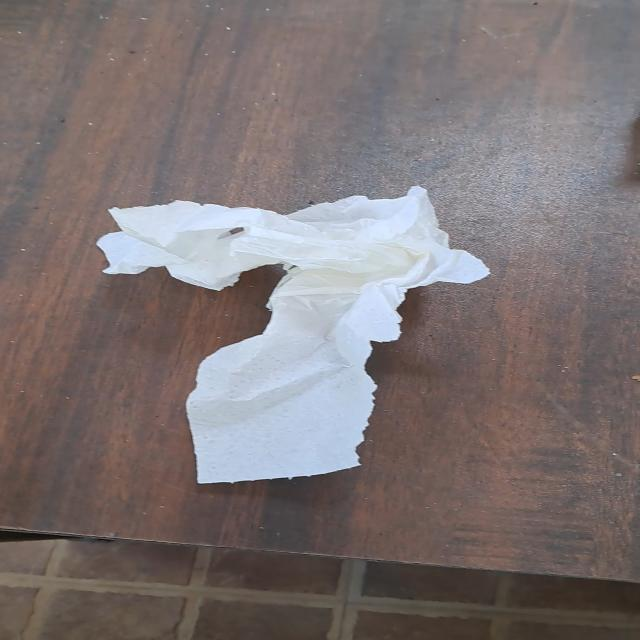Organik: (101, 182, 490, 483)
